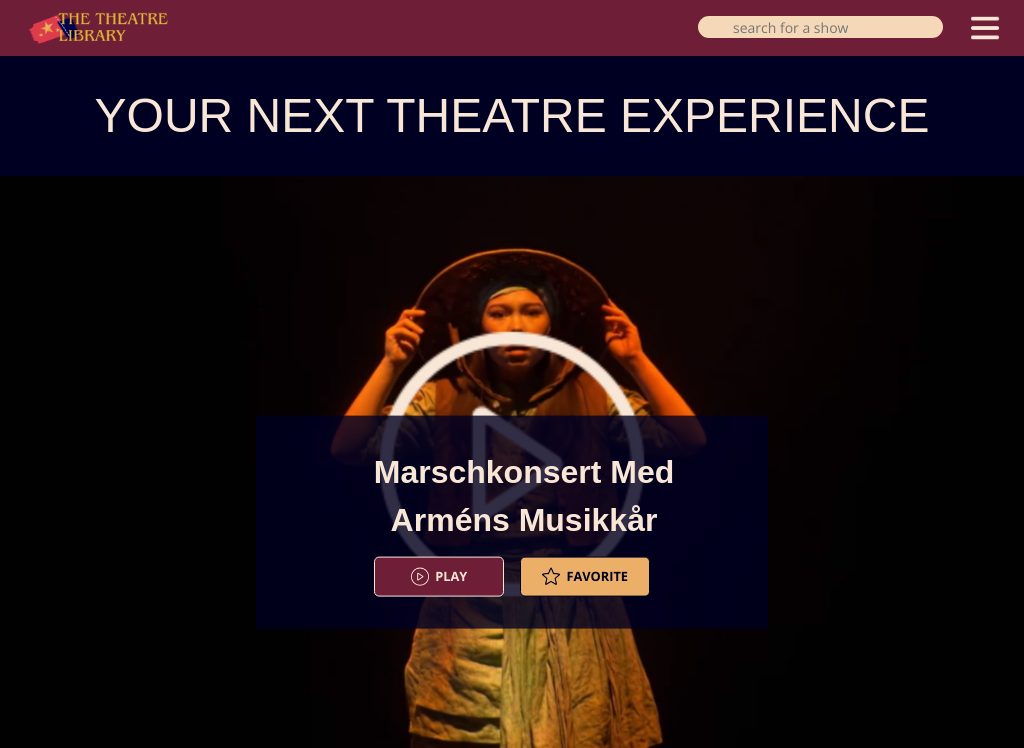
Wilmas spec › Searches by title and displays the matching backend result
The width and height of the screenshot is (1024, 748).
Type "marsch" into the field with id "search". click: (821, 27)
box: [698, 16, 943, 38]
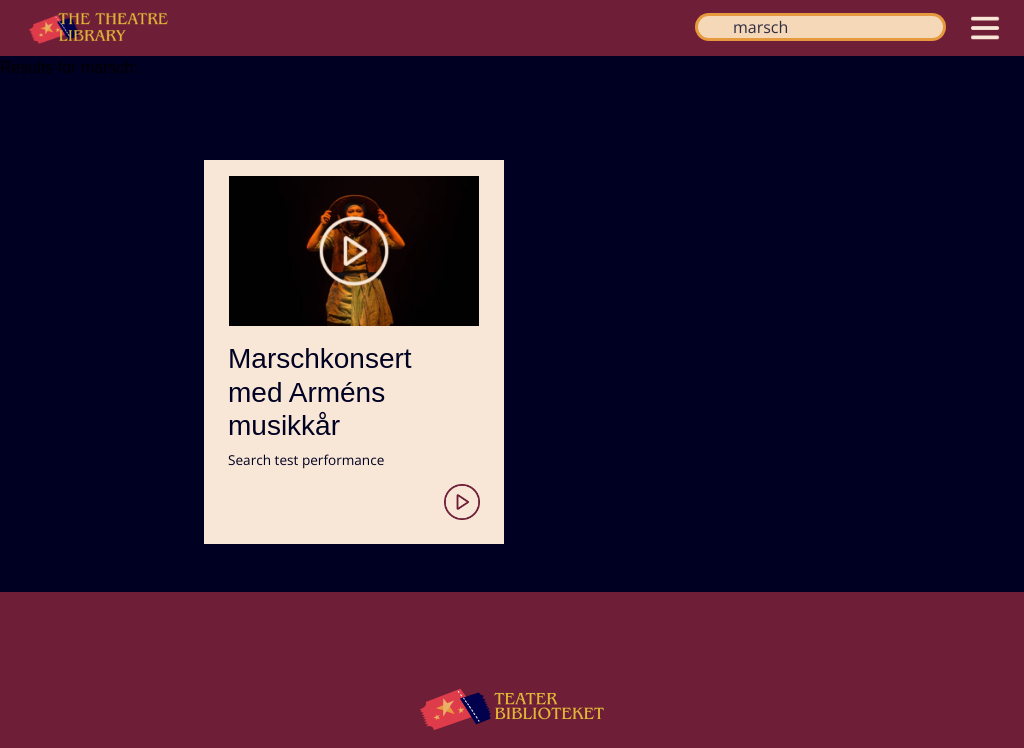
Result: the link "Marschkonsert med Arméns musikkår" is shown at [228, 176, 480, 520]
